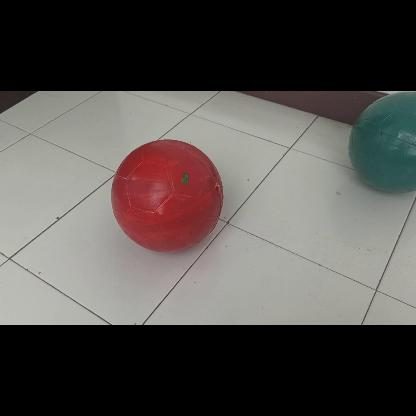red_ball: (111, 142, 221, 252)
